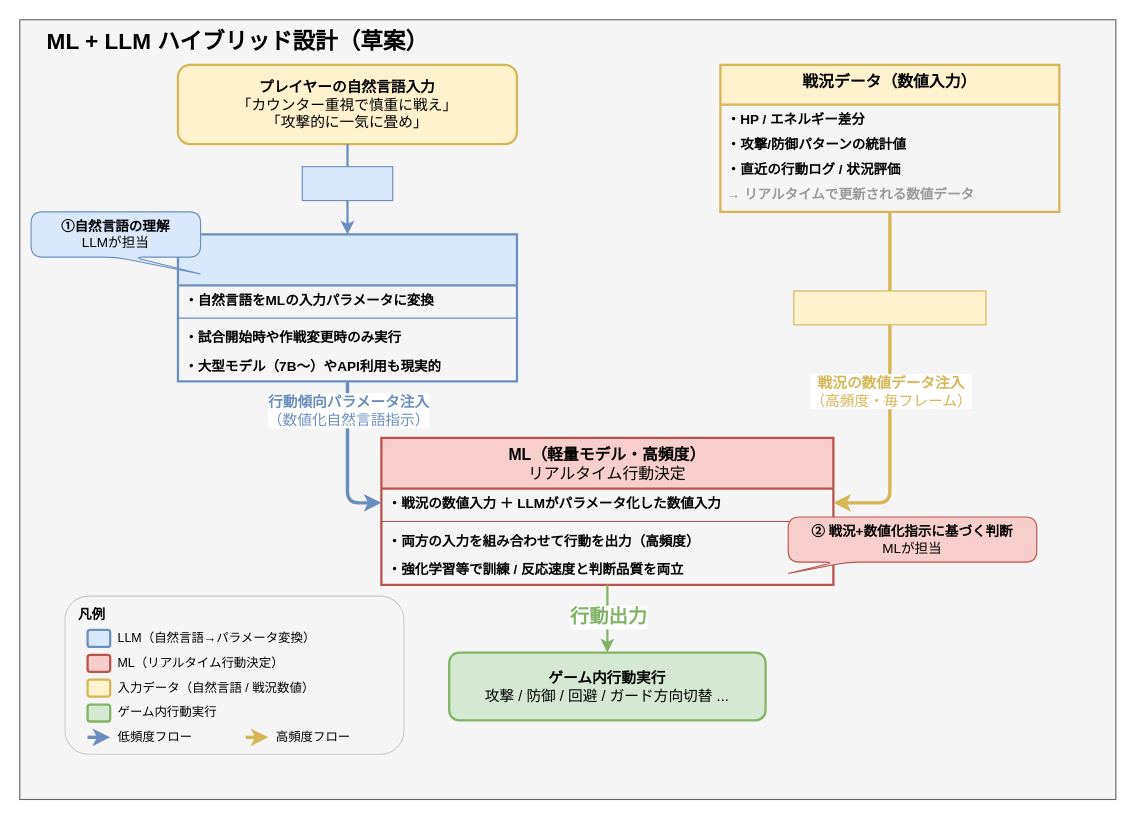
Image size: 1136x819. Some labels were removed from this diagram. The box of each missing label's shape, as (x1, y1, x2, y2) in pixels:
LLM（高パラメータモデル） 自然言語の「通訳」: (176, 233, 518, 382)
⏱ 低頻度: (301, 166, 393, 201)
⏱ 高頻度（数秒に一回）: (793, 290, 986, 325)
